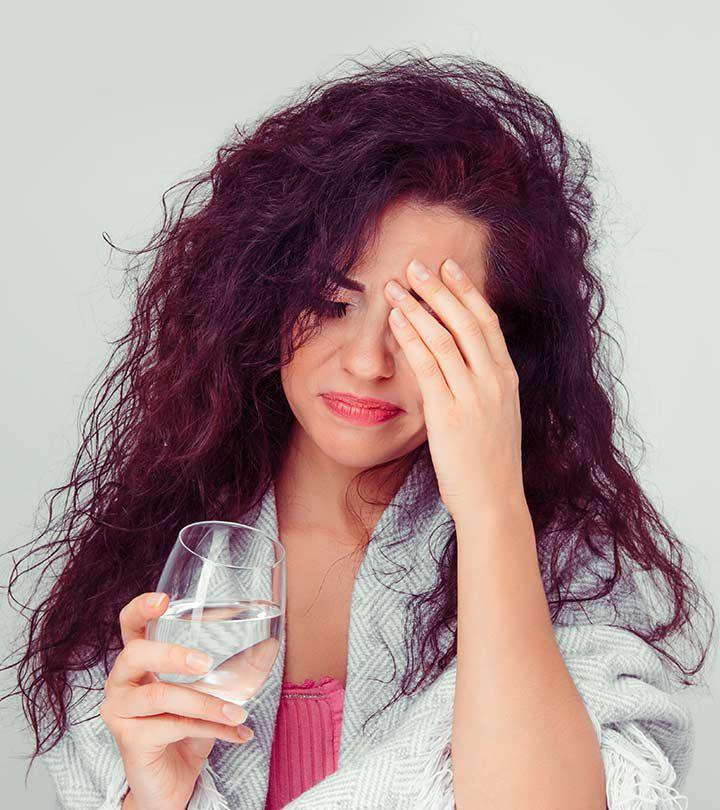Drunk: (284, 217, 462, 460)
